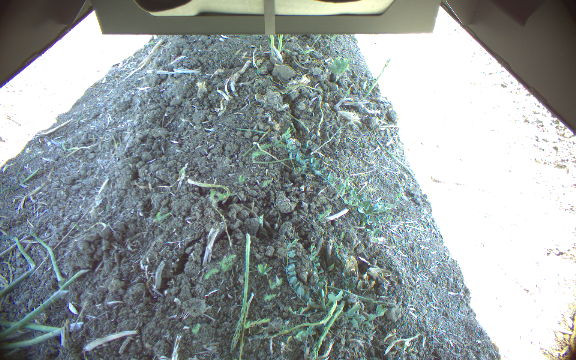aspa: (359, 57, 392, 98), (276, 33, 286, 57), (266, 33, 275, 58)
